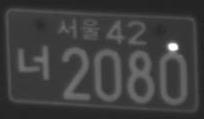0: (156, 50, 189, 107), (91, 46, 123, 104)
2: (59, 45, 91, 102), (126, 18, 149, 47)
4: (104, 17, 126, 46)
8: (124, 48, 156, 104)
너: (14, 43, 50, 82)
서울_O: (56, 15, 101, 42)
